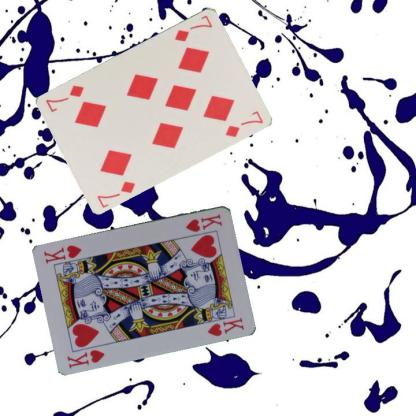7d: (172, 12, 214, 43), (95, 178, 137, 209)
Kh: (183, 211, 224, 233), (65, 347, 106, 369)
